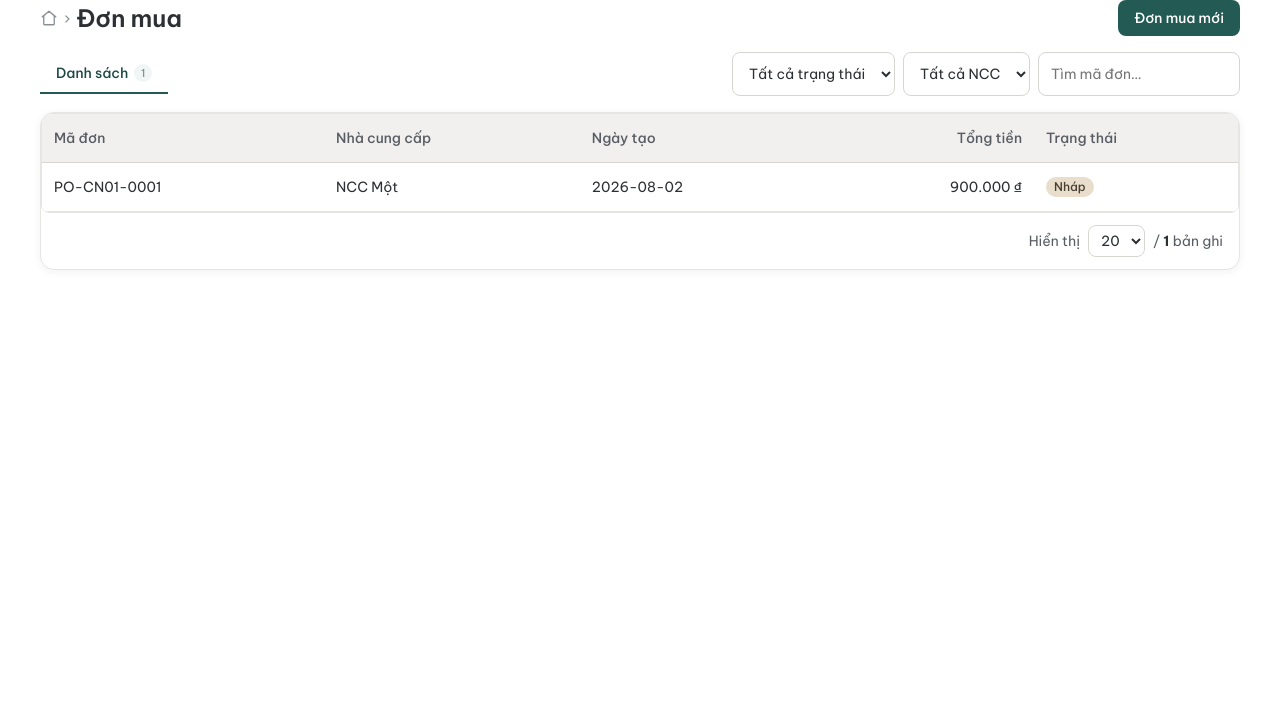
it: PurchaseOrdersPage › hides approve/send from a non-approver on an over-threshold DRAFT
The width and height of the screenshot is (1280, 720).
Click the text "PO-CN01-0001".
click(183, 187)  # box 42,162 -> 324,212
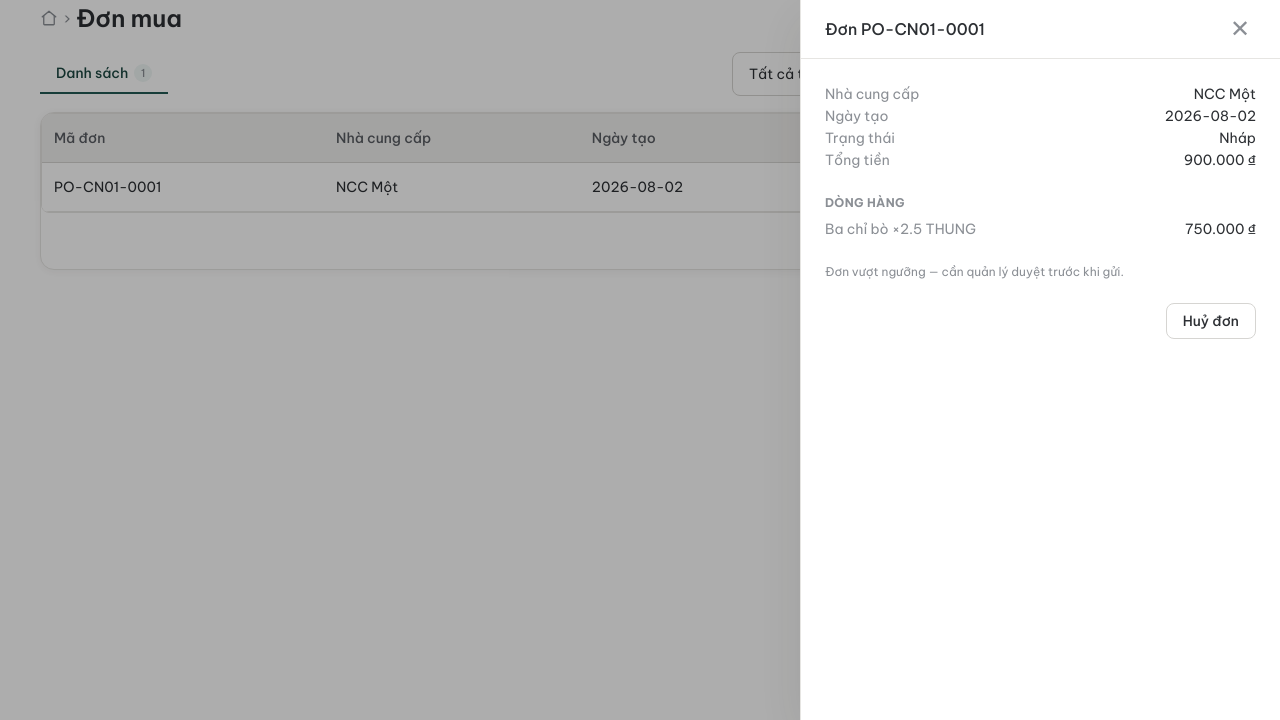
Expected: the text "Đơn vượt ngưỡng — cần quản lý duyệt trước khi gửi." is shown, 825,264 -> 1124,279
